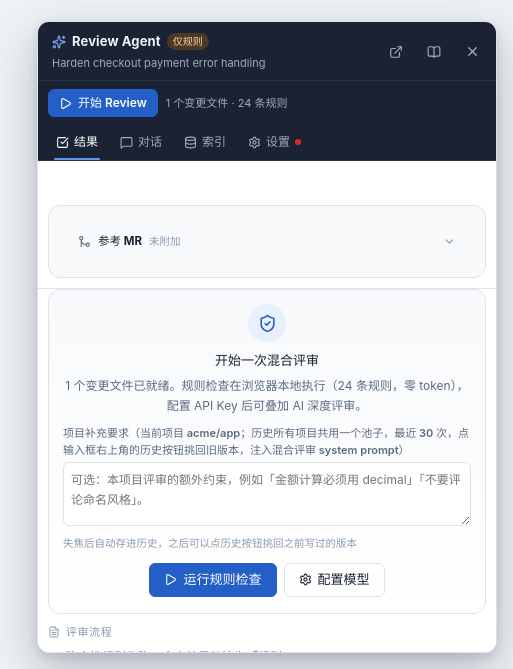
review reset › 顶部「重新开始」与底部同一个复位入口，行为一致
Expected: the button "重新开始" is not shown
Click the button "开始 Review".
click(103, 103)  # box [48,89,158,117]
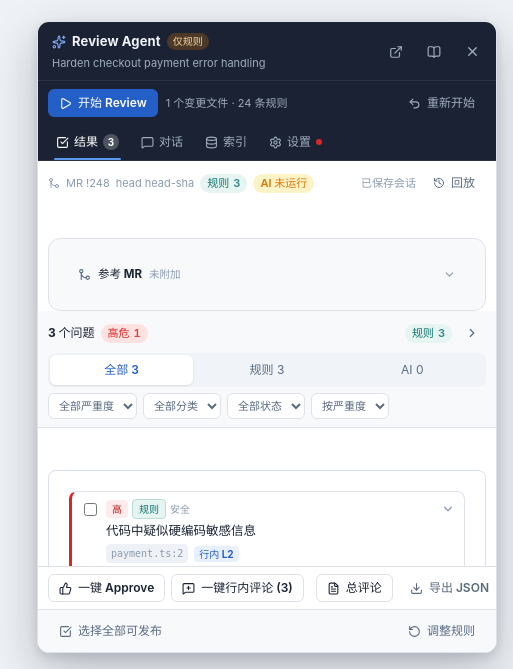
Result: the text "3 个问题" is shown at [48,324,95,342]
Result: the button "重新开始" is enabled
Click the button "重新开始".
click(442, 103)  # box [397,89,486,117]
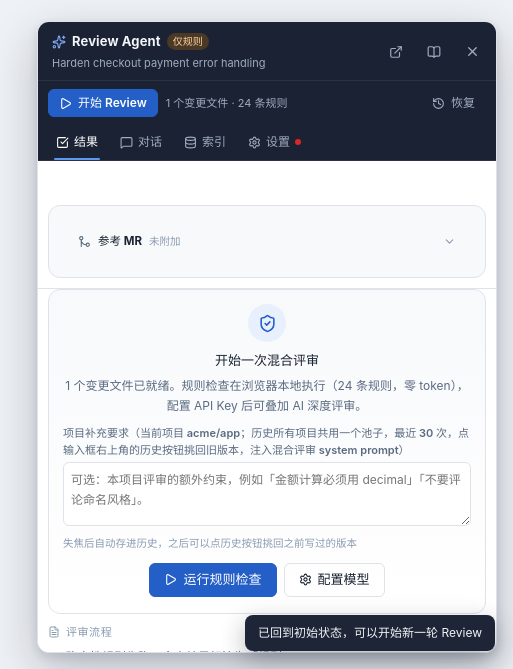
Result: the text "开始一次混合评审" is shown at [215,352,319,368]
Result: the button "重新开始" is gone
